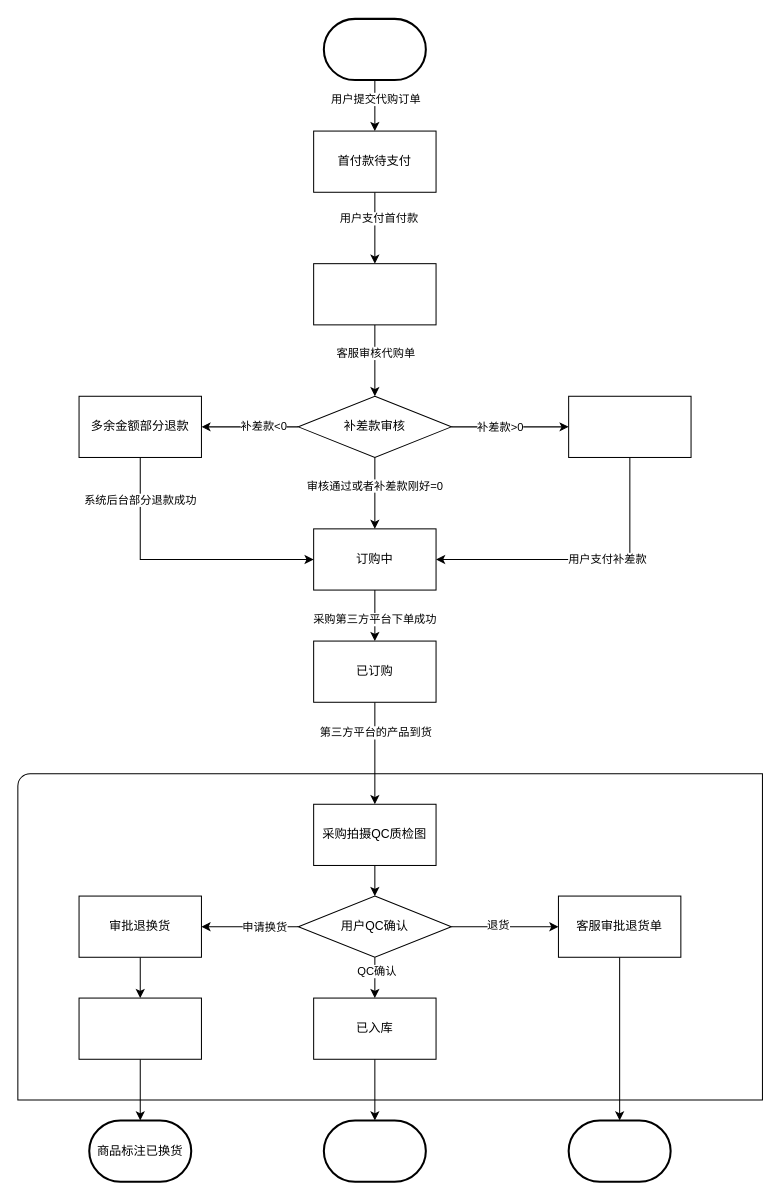
Some shapes in this 780 by 1200 pixel diagram are drawn without their labels. The centre of each missing label's shape, as x and y in pixels:
"商品入用户仓库" goes at (x=374, y=1150).
"商品标注已退款" goes at (x=619, y=1150).
"开始" goes at (x=374, y=49).
"待审核" goes at (x=374, y=294).
"根据换货要求 重新生成订单" goes at (x=139, y=1028).
"补差款待支付" goes at (x=629, y=426).
